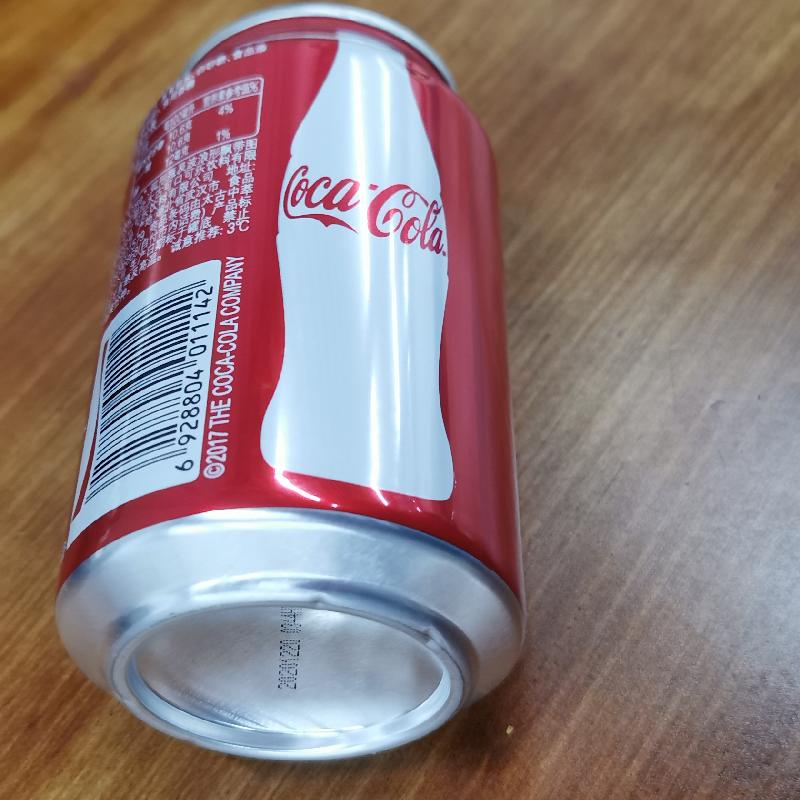cans: (52, 0, 530, 764)
